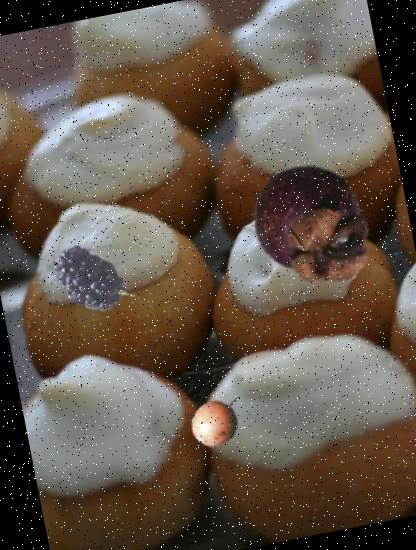Granadilla: (184, 384, 252, 454)
Mangostan: (235, 150, 390, 304)
Mulberry: (40, 233, 143, 336)
